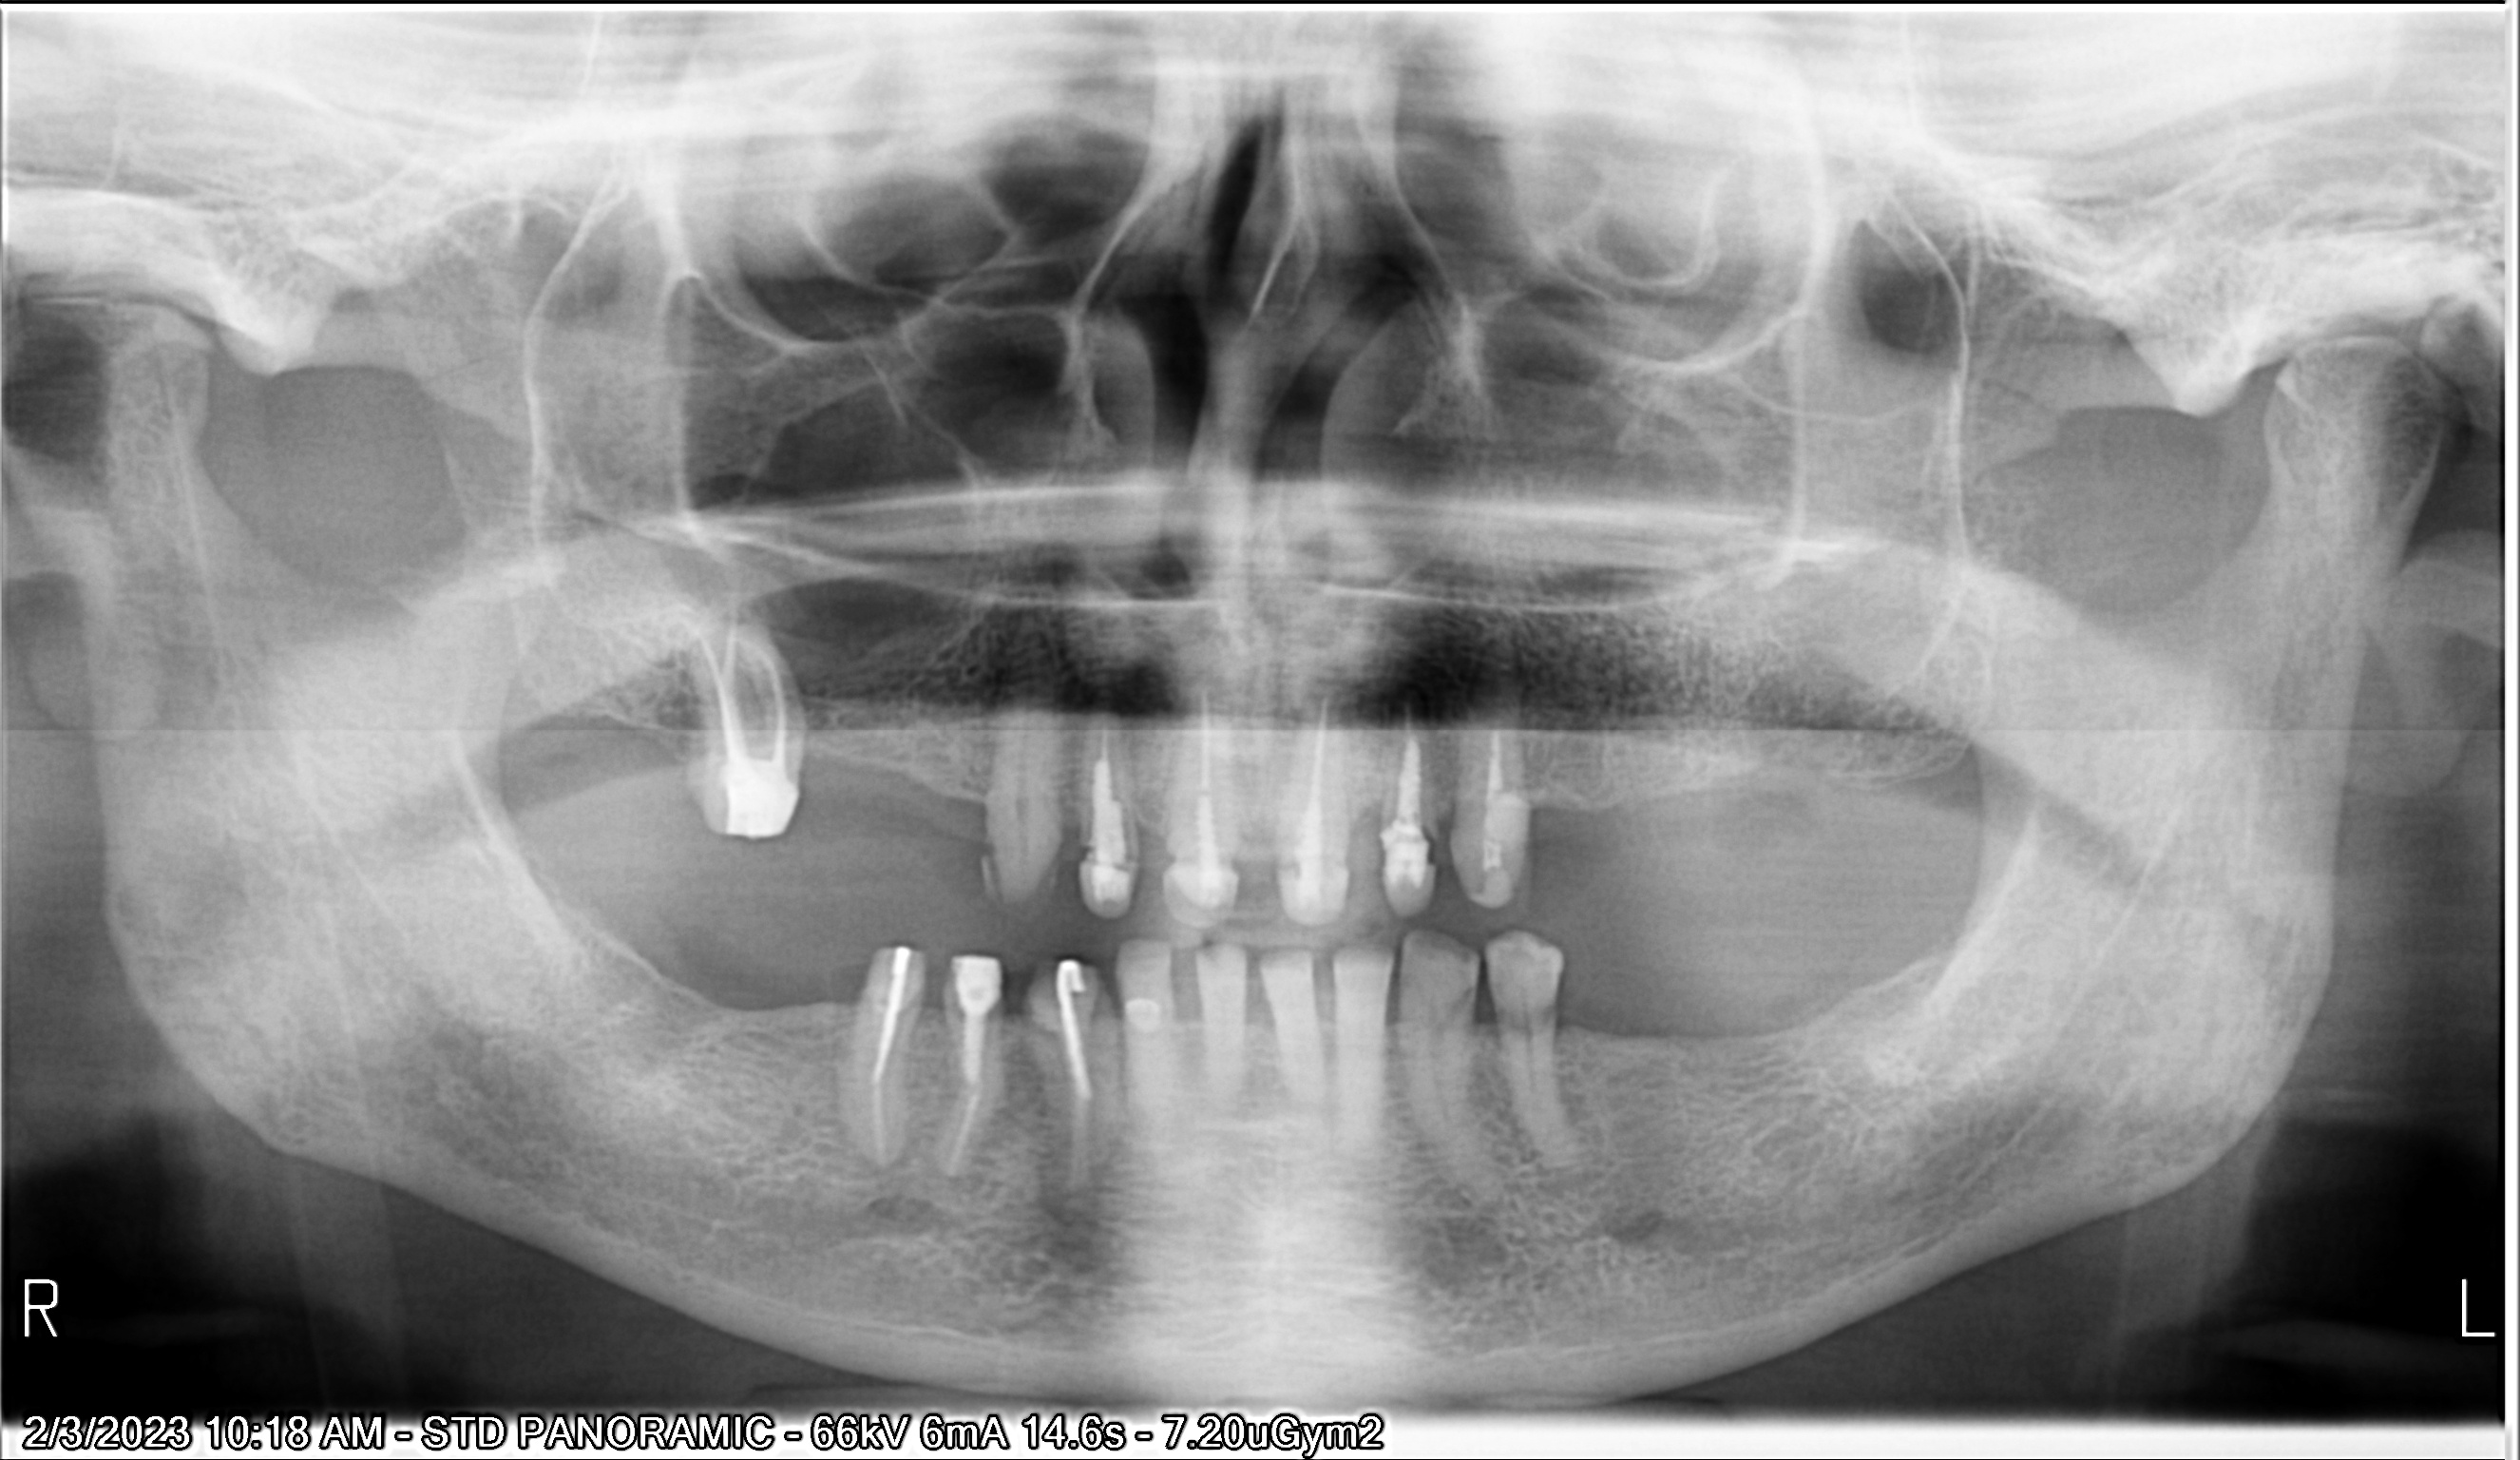BON: (1124, 793, 1193, 890), (1336, 765, 1396, 871), (1160, 977, 1217, 1078), (1544, 975, 1612, 1057), (1292, 980, 1355, 1067), (1457, 985, 1521, 1069), (1228, 980, 1282, 1074), (957, 765, 1021, 838), (1501, 765, 1551, 857), (1367, 987, 1424, 1067)
END: (686, 622, 797, 763), (1172, 673, 1230, 864), (1289, 674, 1344, 850), (1382, 676, 1436, 857), (1474, 687, 1528, 866), (1079, 702, 1139, 857), (1047, 1006, 1096, 1191), (863, 1005, 910, 1168), (941, 1015, 990, 1170)
OBT: (709, 756, 804, 850), (948, 946, 1019, 1020), (1278, 855, 1349, 923), (1165, 866, 1235, 933), (1044, 951, 1112, 1020), (1381, 838, 1438, 916), (1079, 850, 1139, 923), (863, 933, 929, 998), (1120, 980, 1178, 1043)
